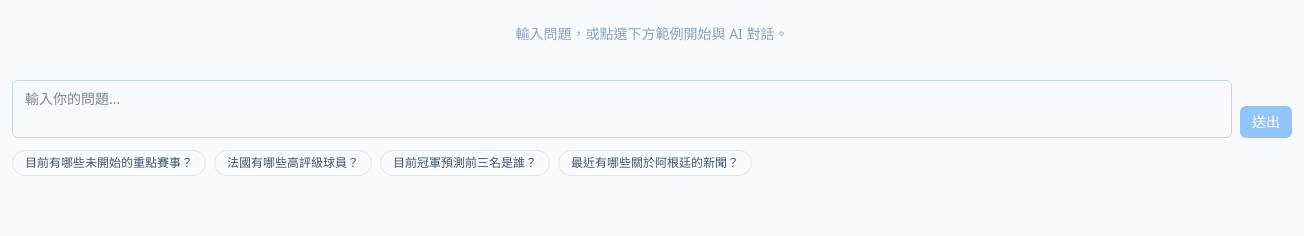
Test case: GeneralFloatingChat › sends a question and shows the answer with a provider badge
Step 1. Type "法國有哪些高評級球員？" into the text box named "輸入問題" → (622, 109), box [12,80,1232,138]
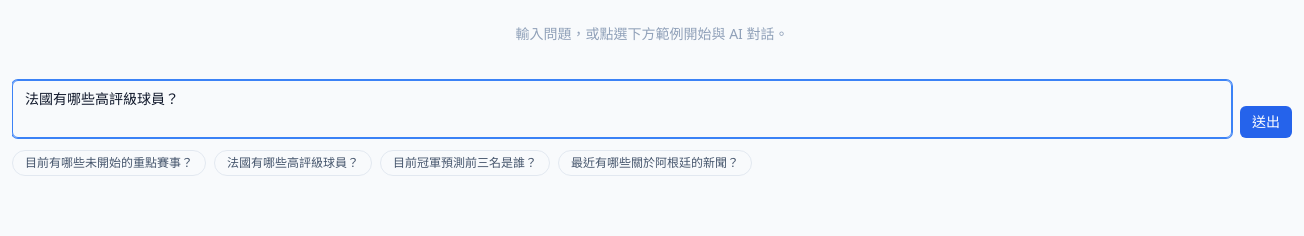
Step 2. Click the button "送出" → (1266, 122), box [1240,106,1292,138]
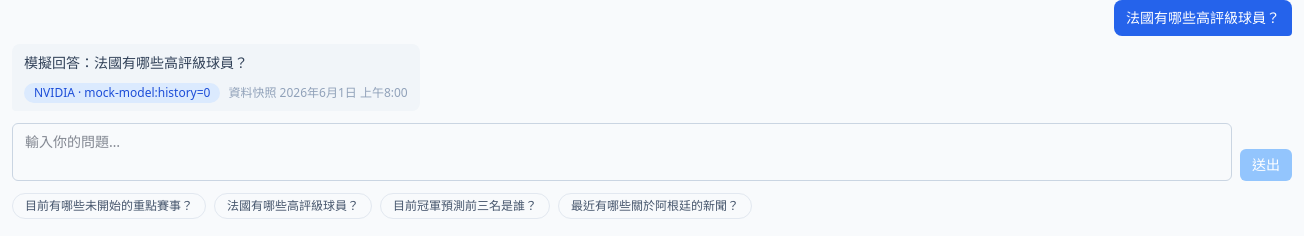
Check: the text "模擬回答：法國有哪些高評級球員？" is shown, box [24,53,248,72]
Check: the text "NVIDIA · mock-model:history=0" is shown, box [24,83,220,103]
